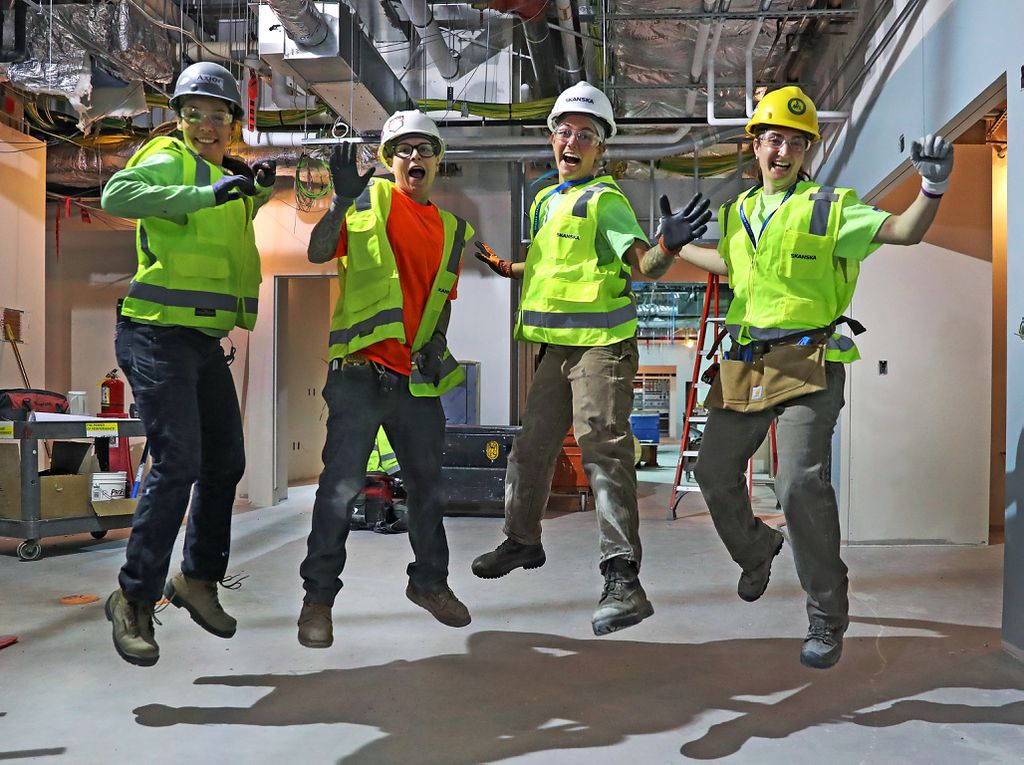Safety Helmet: (148, 40, 260, 192), (738, 76, 828, 203), (535, 66, 623, 193), (373, 97, 448, 217)
